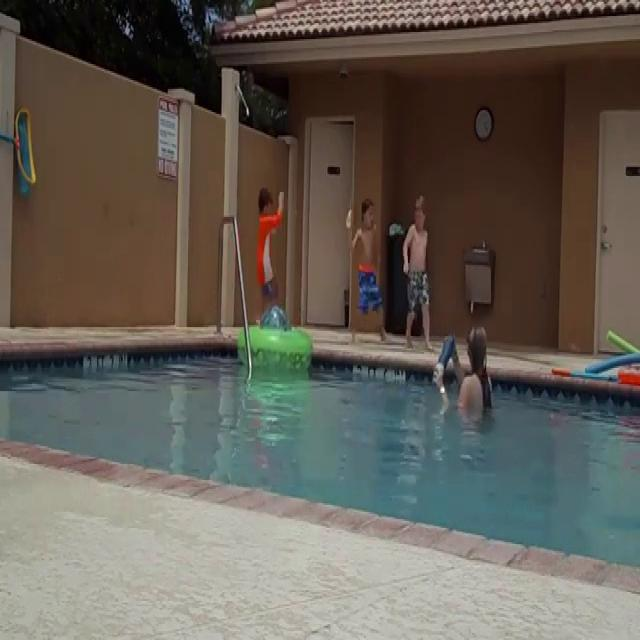adult: (434, 328, 492, 430)
child: (351, 200, 390, 342), (403, 196, 431, 352), (256, 186, 284, 305)
